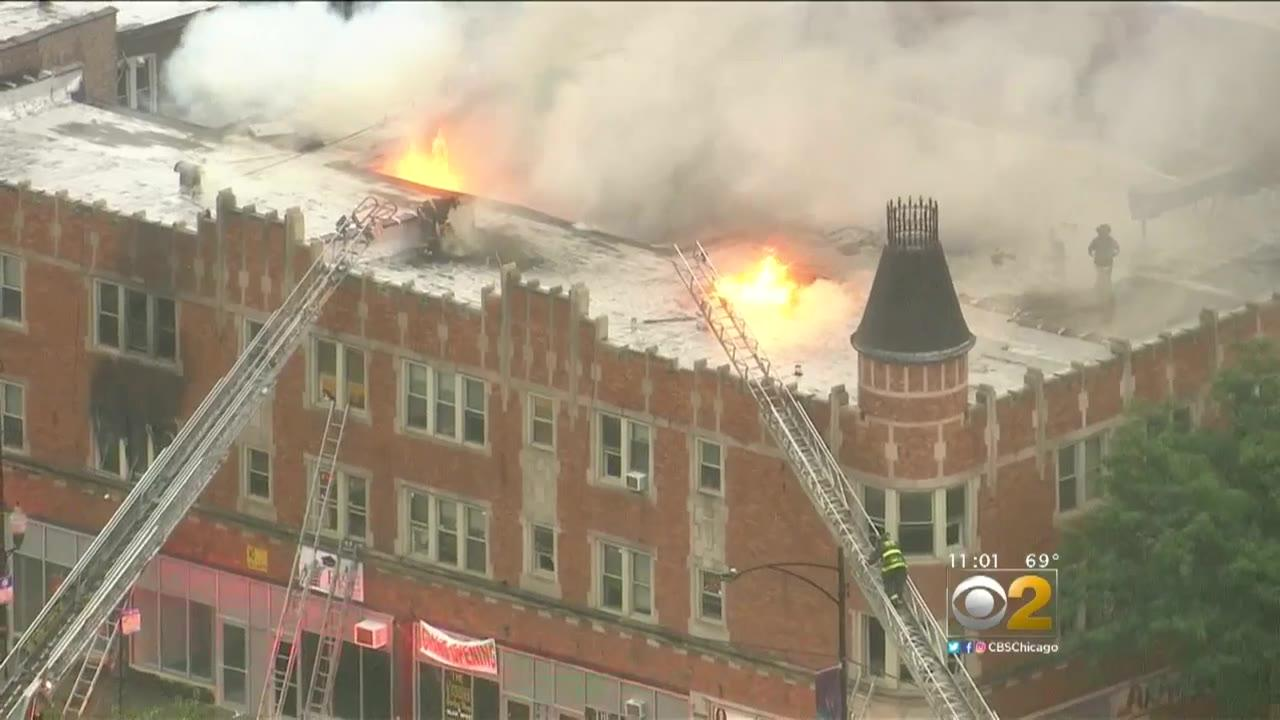Fire: (691, 244, 862, 352), (367, 120, 500, 201)
